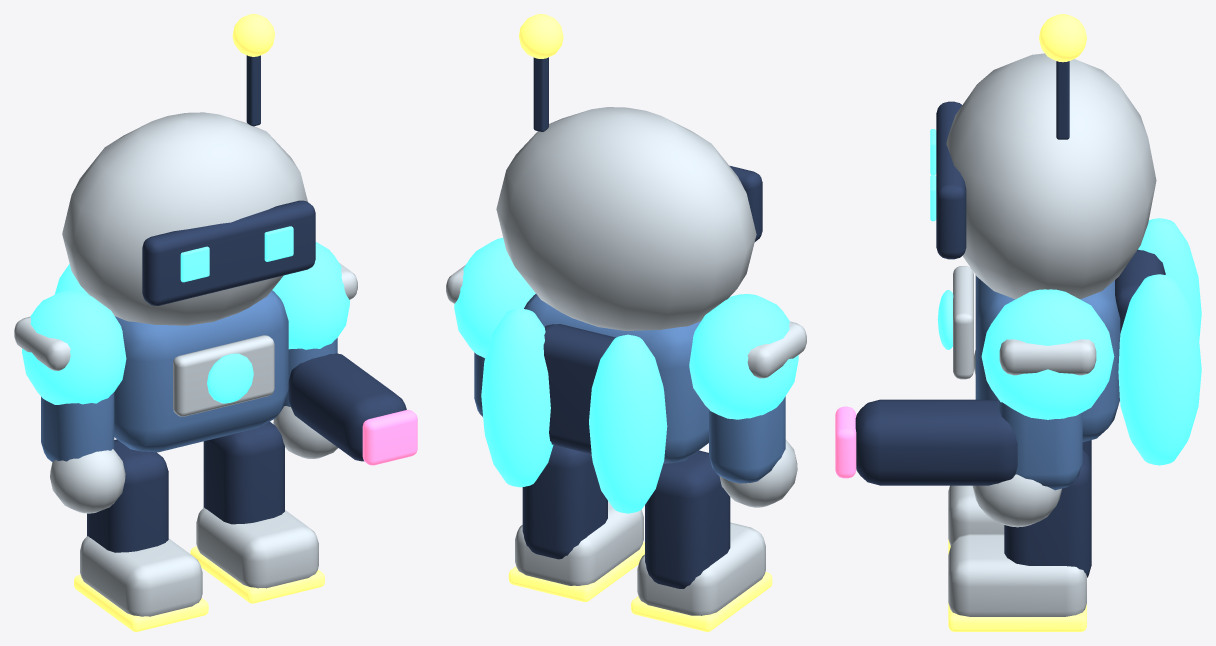
File: hero.glb
3 renders of one model, left to right at view 1: azimuth 30°, elevation 25°; view 2: azimuth 150°, elevation 25°; view 3: azimuth 270°, elevation 25°, orthographic. The views are drawn at different scales.
Parts seen in each view (by area): view 1: Helmet, Body, Visor, Shoulder_L, Leg_R, Blaster, Boot_L, Boot_R, Leg_L, Shoulder_R, Chest, Arm_L (+12 smaller); view 2: Helmet, Ion tank, Ion tank.001, Shoulder_L, Leg_L, Leg_R, Body, Backpack, Boot_L, Shoulder_R, Boot_R, Arm_L (+8 smaller); view 3: Helmet, Blaster, Ion tank.001, Shoulder_R, Boot_R, Leg_R, Body, Arm_R, Visor, Hand_R, Shoulder armor.001, Ion tank (+8 smaller).
Part boxes in pixels (x1,y1,x2,y2): Helmet: (62,112,307,325); Body: (114,290,288,452); Visor: (142,200,315,305); Shoulder_L: (22,290,126,404); Leg_R: (203,421,284,524); Blaster: (288,353,406,461); Boot_L: (80,536,202,616); Boot_R: (196,507,318,588); Leg_L: (87,439,168,552); Shoulder_R: (272,242,349,349); Chest: (173,335,274,416); Arm_L: (41,392,114,461); Helmet: (496,107,756,330); Ion tank: (589,334,667,513); Ion tank.001: (481,308,553,487); Shoulder_L: (689,294,798,419); Leg_L: (645,450,730,588); Leg_R: (522,445,607,559); Body: (524,294,708,463); Backpack: (543,324,615,453); Boot_L: (637,522,765,615); Shoulder_R: (454,237,535,357); Boot_R: (515,501,643,585); Arm_L: (709,396,785,483); Helmet: (946,53,1156,299); Blaster: (855,399,1017,485); Ion tank.001: (1118,274,1201,465); Shoulder_R: (981,289,1114,419); Boot_R: (948,534,1086,616); Leg_R: (1004,449,1091,577); Body: (975,275,1120,442); Arm_R: (998,399,1082,490); Visor: (936,101,966,259); Hand_R: (972,474,1061,527); Shoulder armor.001: (999,339,1096,375); Ion tank: (1138,218,1201,339).
Bounding box in the file's own units: 1.34 × 2.22 × 1.22.
